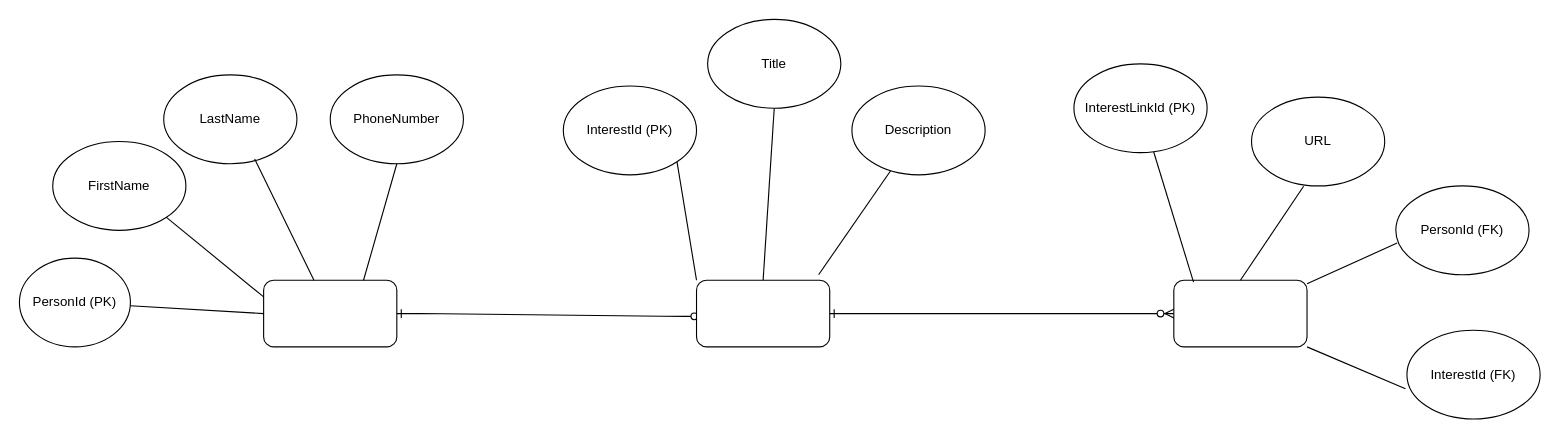
Some shapes in this 1560 by 438 pixel diagram are drawn without their labels. The box of each missing label's shape, as (x1, y1, x2, y2) in pixels:
Interest: (695, 279, 830, 347)
InterestLink: (1173, 279, 1307, 347)
Person: (263, 279, 397, 347)
